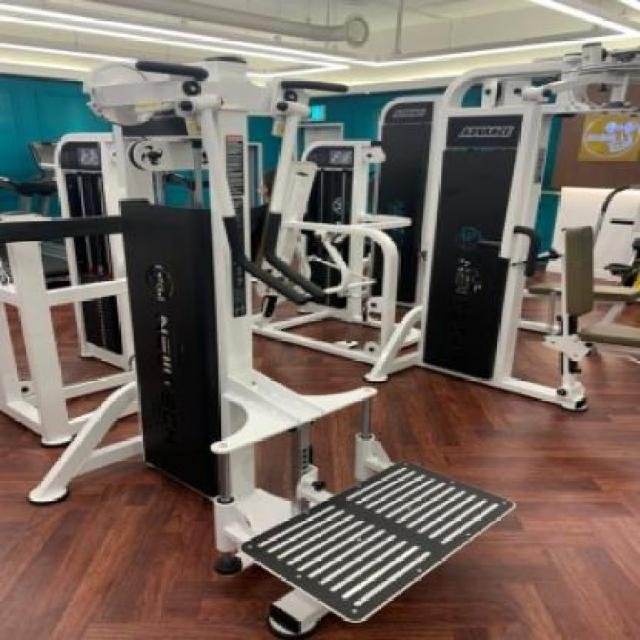lateral raises machine: (123, 58, 355, 631)
